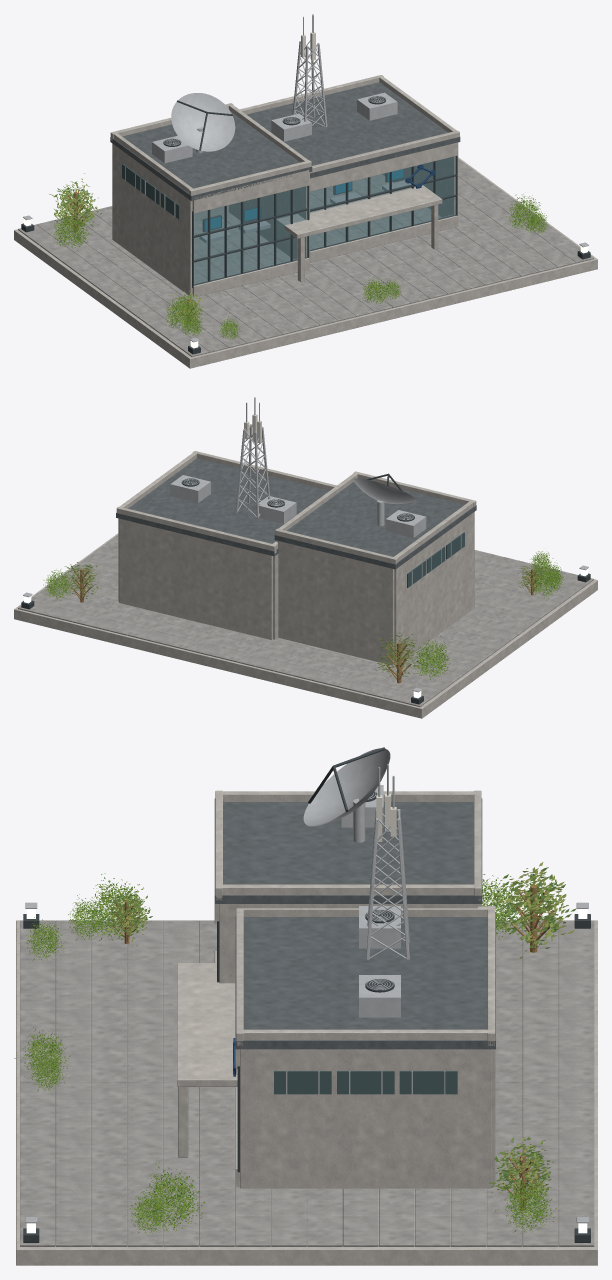
Rendered from red_inteligente.fbx.
3 views of the same model, one above another, from view 1: azimuth 30°, elevation 25°; view 2: azimuth 150°, elevation 25°; view 3: azimuth 270°, elevation 25° (orthographic). The views are drawn at different scales.
Parts seen in each view (by area): view 1: Solar · Loseta mineral, Pabellones de control · Prefabricado caliza, Pabellones de control · Membrana bituminosa, Pabellones de control · Cristal de control, Solar · Prefabricado caliza, Pabellones de control · Perfilería antracita, Pabellones de control · Inox cepillado, Antena parabólica · Inox cepillado, Torre de comunicaciones · Inox cepillado, Follaje.009, Pabellones de control · Vidrio ahumado, Follaje.006 (+5 smaller); view 2: Pabellones de control · Prefabricado caliza, Solar · Loseta mineral, Pabellones de control · Membrana bituminosa, Solar · Prefabricado caliza, Pabellones de control · Inox cepillado, Torre de comunicaciones · Inox cepillado, Antena parabólica · Inox cepillado, Jardinería de la parcela · Abeto cepillado, Follaje.009, Pabellones de control · Vidrio ahumado, Jardinería de la parcela · Hojas 2, Jardinería de la parcela · Hojas 1 (+3 smaller); view 3: Solar · Loseta mineral, Pabellones de control · Prefabricado caliza, Pabellones de control · Membrana bituminosa, Solar · Prefabricado caliza, Pabellones de control · Vidrio ahumado, Pabellones de control · Inox cepillado, Antena parabólica · Inox cepillado, Torre de comunicaciones · Inox cepillado, Jardinería de la parcela · Hojas 2, Jardinería de la parcela · Hojas 1, Jardinería de la parcela · Hojas 0, Follaje.006 (+11 smaller).
Part boxes in pixels (left/top/right/bottom): Solar · Loseta mineral: left=18, top=159, right=593, bottom=356; Pabellones de control · Prefabricado caliza: left=110, top=75, right=459, bottom=297; Pabellones de control · Membrana bituminosa: left=110, top=82, right=460, bottom=200; Pabellones de control · Cristal de control: left=194, top=156, right=455, bottom=284; Solar · Prefabricado caliza: left=14, top=157, right=597, bottom=368; Pabellones de control · Perfilería antracita: left=163, top=96, right=457, bottom=287; Pabellones de control · Inox cepillado: left=125, top=92, right=410, bottom=243; Antena parabólica · Inox cepillado: left=171, top=93, right=235, bottom=152; Torre de comunicaciones · Inox cepillado: left=292, top=14, right=327, bottom=127; Follaje.009: left=50, top=209, right=92, bottom=250; Pabellones de control · Vidrio ahumado: left=122, top=164, right=179, bottom=219; Follaje.006: left=506, top=194, right=543, bottom=232; Pabellones de control · Prefabricado caliza: left=116, top=451, right=476, bottom=665; Solar · Loseta mineral: left=18, top=535, right=593, bottom=706; Pabellones de control · Membrana bituminosa: left=116, top=458, right=476, bottom=569; Solar · Prefabricado caliza: left=14, top=533, right=597, bottom=718; Pabellones de control · Inox cepillado: left=170, top=475, right=461, bottom=585; Torre de comunicaciones · Inox cepillado: left=235, top=397, right=270, bottom=518; Antena parabólica · Inox cepillado: left=352, top=478, right=416, bottom=525; Jardinería de la parcela · Abeto cepillado: left=71, top=568, right=539, bottom=683; Follaje.009: left=412, top=636, right=450, bottom=680; Pabellones de control · Vidrio ahumado: left=407, top=532, right=464, bottom=587; Jardinería de la parcela · Hojas 2: left=61, top=563, right=545, bottom=678; Jardinería de la parcela · Hojas 1: left=65, top=564, right=546, bottom=677; Solar · Loseta mineral: left=20, top=920, right=594, bottom=1246; Pabellones de control · Prefabricado caliza: left=177, top=790, right=495, bottom=1188; Pabellones de control · Membrana bituminosa: left=214, top=798, right=495, bottom=1049; Solar · Prefabricado caliza: left=16, top=920, right=597, bottom=1265; Pabellones de control · Vidrio ahumado: left=274, top=1071, right=457, bottom=1094; Pabellones de control · Inox cepillado: left=286, top=785, right=445, bottom=1094; Antena parabólica · Inox cepillado: left=303, top=748, right=390, bottom=842; Torre de comunicaciones · Inox cepillado: left=366, top=764, right=409, bottom=959; Jardinería de la parcela · Hojas 2: left=100, top=862, right=574, bottom=1197; Jardinería de la parcela · Hojas 1: left=100, top=867, right=568, bottom=1206; Jardinería de la parcela · Hojas 0: left=103, top=867, right=576, bottom=1206; Follaje.006: left=131, top=1162, right=204, bottom=1231.
Size of the model in its own units: 15.4 by 7.79 by 11.54.
19 materials, 5 textured.
